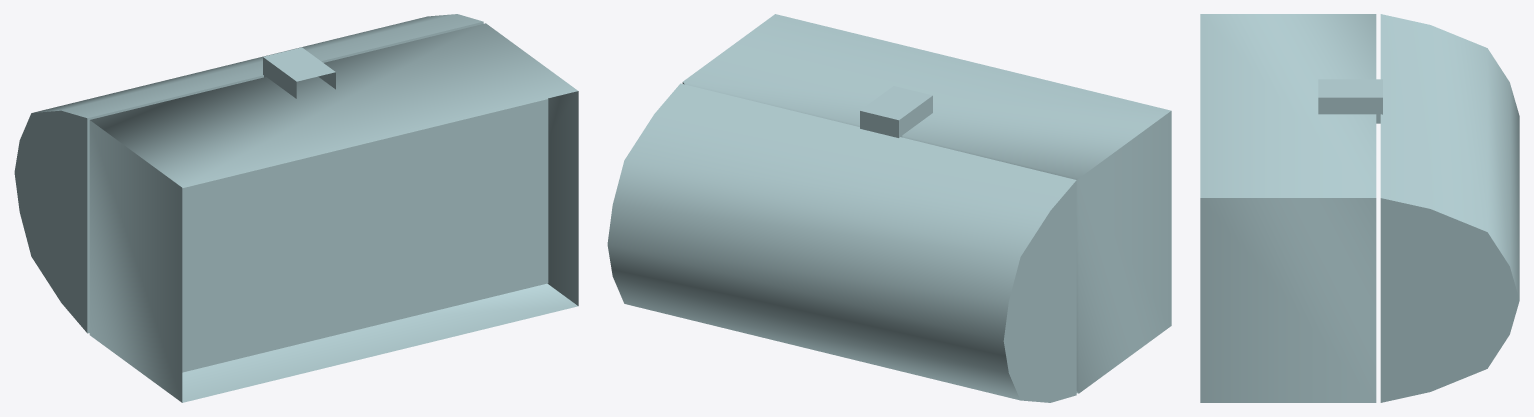
The picture shows the model from 3 angles, left to right: view 1: azimuth 30°, elevation 25°; view 2: azimuth 150°, elevation 25°; view 3: azimuth 270°, elevation 25°; orthographic projection. The views are drawn at different scales.
Visible parts, largest first — view 1: Object40; view 2: Object40; view 3: Object40.
Boxes of the visible parts, x1,y1,x2,y2 form: Object40: [14, 14, 578, 402]; Object40: [607, 14, 1171, 402]; Object40: [1200, 14, 1519, 402].
Bounding box in the file's own units: 11457 × 6432 × 8404.
